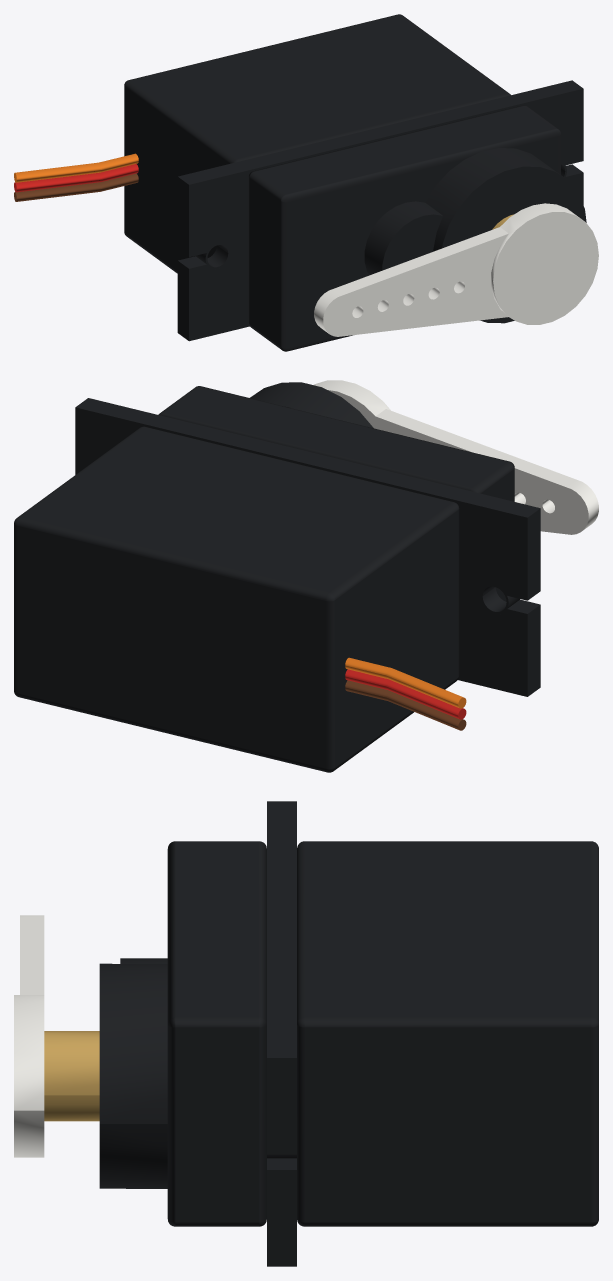
Rendered from servo-mg90s-ws15024-eck.glb.
3 renders of one model, top to bottom at view 1: azimuth 30°, elevation 25°; view 2: azimuth 150°, elevation 25°; view 3: azimuth 270°, elevation 25°, orthographic. The views are drawn at different scales.
Parts seen in each view (by area): view 1: body, body_top, horn, tabs, gear_tower, cable_3, cable_1, cable_2, mount_hole_1; view 2: body, tabs, body_top, horn, gear_tower, cable_3, cable_1, cable_2, mount_hole_1; view 3: body, body_top, gear_tower, tabs, horn, spline.
Part boxes in pixels (x1,y1,x2,y2): body: (124, 14, 510, 273); body_top: (248, 105, 560, 351); horn: (314, 203, 598, 336); tabs: (177, 80, 583, 341); gear_tower: (364, 148, 586, 323); cable_3: (14, 153, 138, 182); cable_1: (14, 173, 138, 201); cable_2: (14, 164, 138, 192); mount_hole_1: (195, 243, 229, 268); body: (14, 426, 459, 772); tabs: (75, 398, 540, 696); body_top: (158, 386, 514, 601); horn: (313, 380, 598, 534); gear_tower: (250, 382, 373, 428); cable_3: (345, 657, 466, 708); cable_1: (345, 680, 466, 730); cable_2: (345, 669, 466, 719); mount_hole_1: (480, 584, 519, 614); body: (297, 841, 598, 1226); body_top: (167, 841, 266, 1226); gear_tower: (99, 958, 167, 1188); tabs: (267, 801, 296, 1266); horn: (14, 915, 44, 1157); spline: (44, 1031, 99, 1121).
Bounding box in the file's own units: 36.59 × 12.24 × 31.
